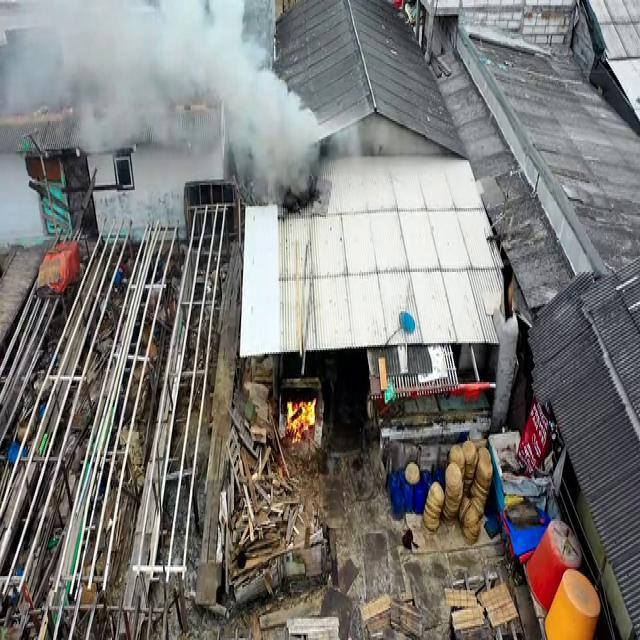smoke: (3, 2, 97, 132), (84, 0, 162, 151), (232, 70, 320, 200), (159, 3, 219, 143), (218, 3, 258, 118)
